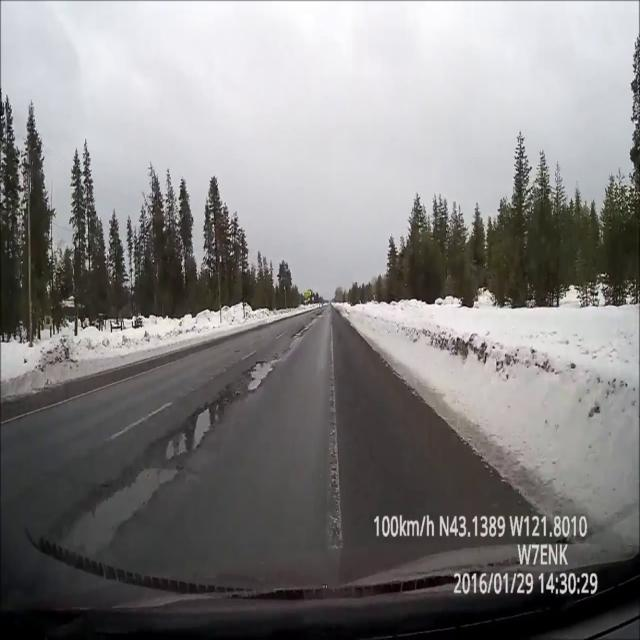Pothole: (54, 462, 182, 544), (162, 400, 222, 458), (248, 358, 276, 394), (292, 326, 308, 338), (316, 312, 323, 316)
